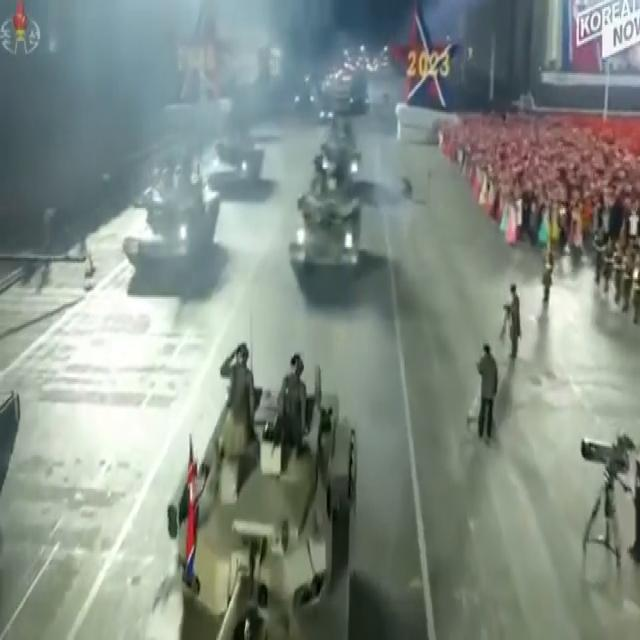north tank: (160, 320, 377, 640), (107, 142, 227, 284), (284, 150, 381, 284), (204, 112, 280, 212)
